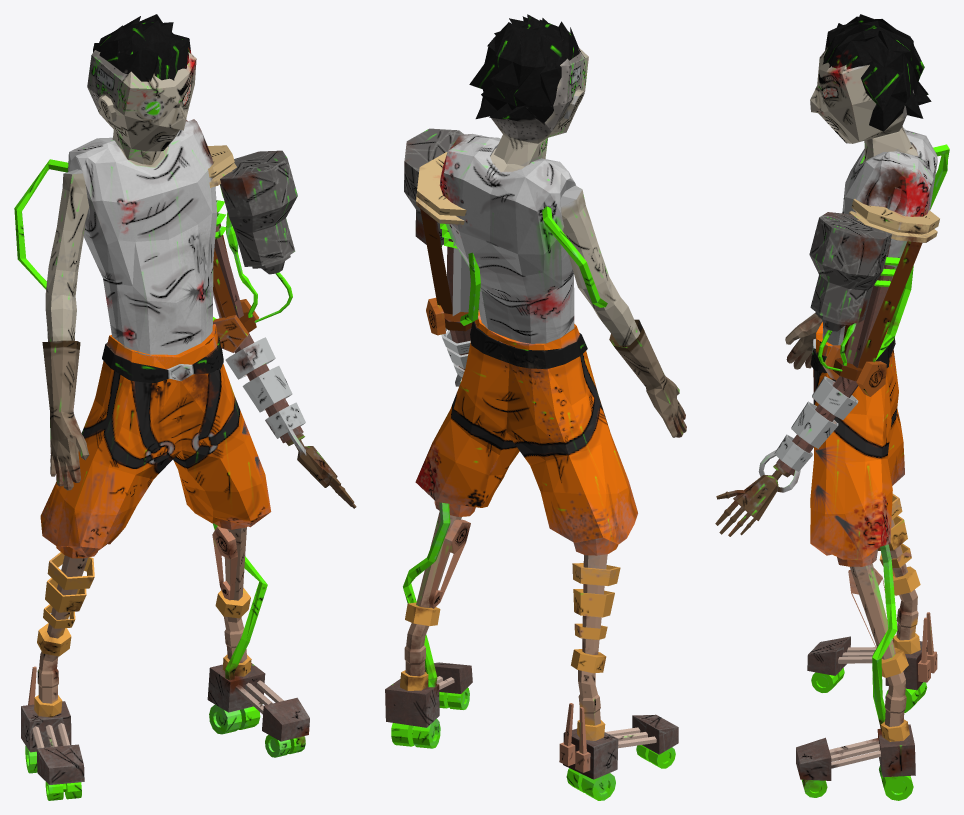
Rendered from CyborgFINALAnimation_000002.obj.
3 renders of one model, left to right at view 1: azimuth 30°, elevation 25°; view 2: azimuth 150°, elevation 25°; view 3: azimuth 270°, elevation 25°, orthographic. The views are drawn at different scales.
Visible parts, largest first — view 1: CyborgMesh_Cube.002; view 2: CyborgMesh_Cube.002; view 3: CyborgMesh_Cube.002.
Part boxes in pixels (box(x1,y1,x2,y2)): CyborgMesh_Cube.002: box(14, 14, 356, 800); CyborgMesh_Cube.002: box(385, 14, 686, 800); CyborgMesh_Cube.002: box(715, 14, 949, 800).
Bounding box in the file's own units: 3.5 × 9.63 × 2.83.
